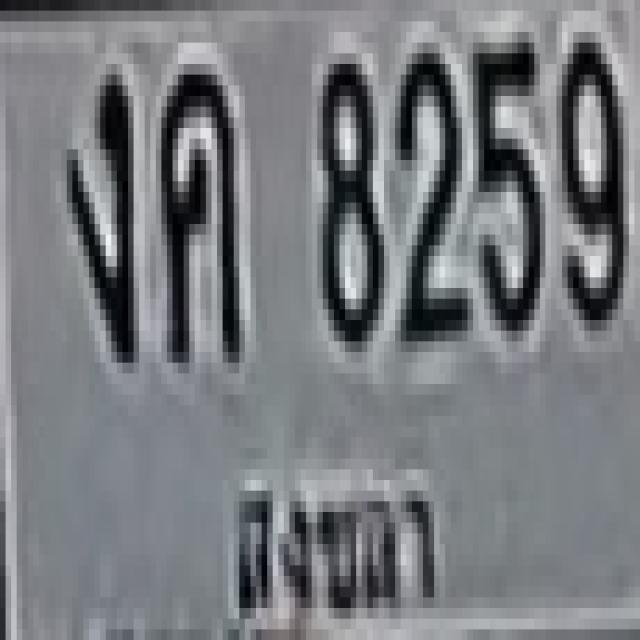2: (395, 42, 462, 330)
5: (468, 32, 534, 331)
8: (317, 54, 378, 342)
9: (556, 32, 624, 320)
A04: (156, 59, 234, 357)
A07: (64, 64, 131, 352)
SKA: (223, 456, 449, 626)
